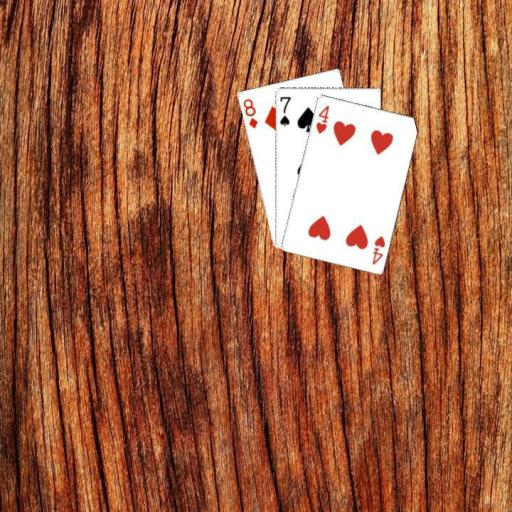4H: (368, 232, 387, 266), (312, 103, 331, 135)
7S: (277, 93, 292, 127)
8D: (240, 95, 259, 130)
